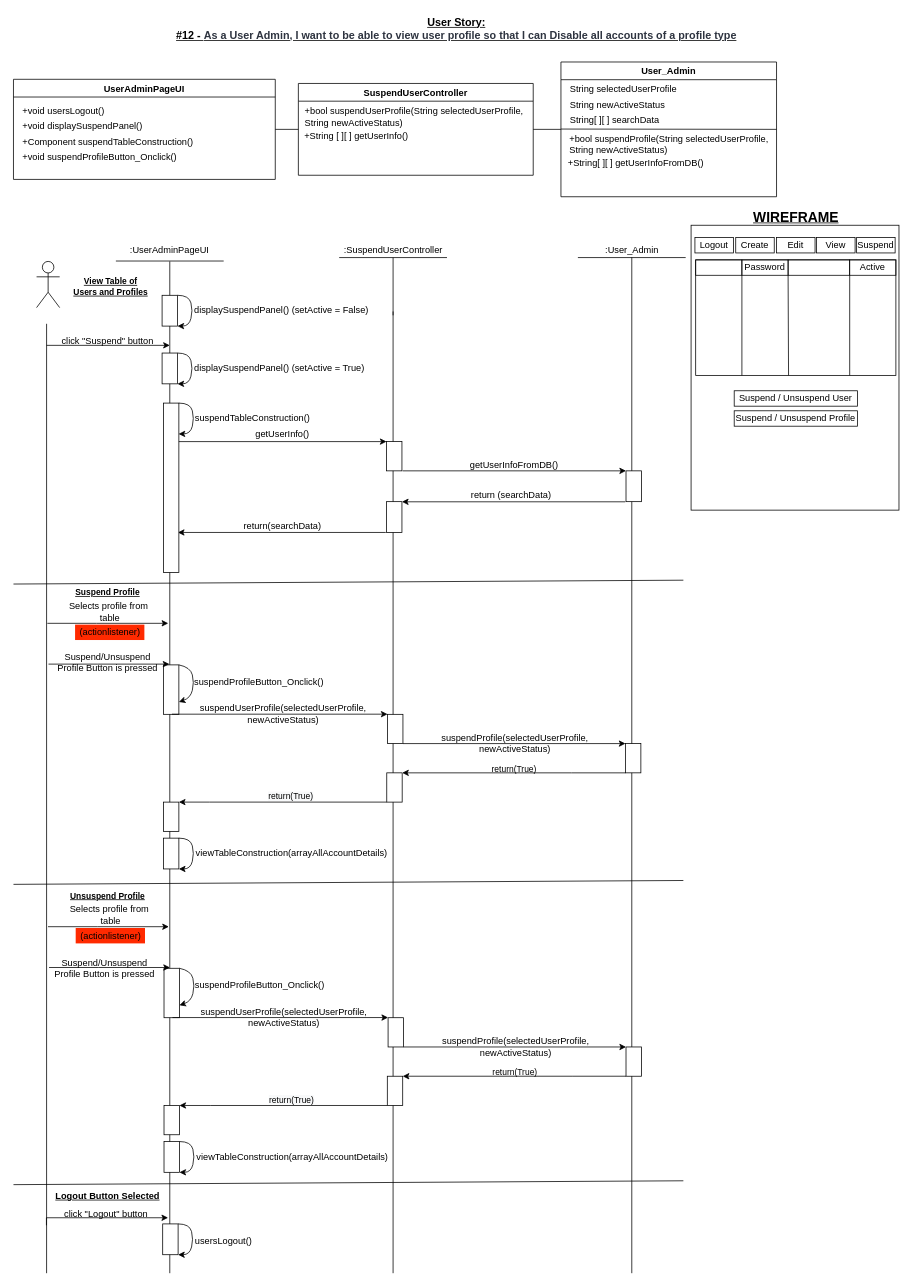
Image size: 912x1287. Some labels were removed from this diagram. Each missing label, with the centre of its shape:
User Admin: point (48, 284)
User Profile: point (818, 267)
Username: point (718, 267)
